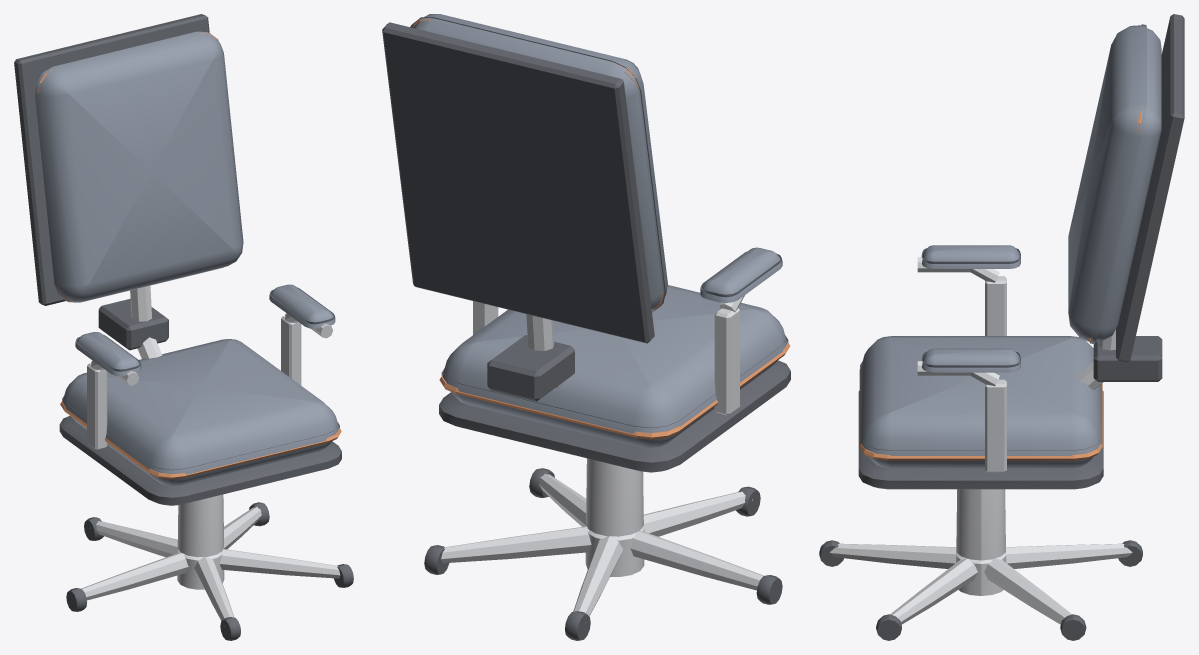
File: task-chair-upholstered.glb
3 renders of one model, left to right at view 1: azimuth 30°, elevation 25°; view 2: azimuth 150°, elevation 25°; view 3: azimuth 270°, elevation 25°, orthographic. The views are drawn at different scales.
Visible parts, largest first — view 1: task-chair-upholstered; view 2: task-chair-upholstered; view 3: task-chair-upholstered.
Part boxes in pixels (box(x1,y1,x2,y2)): task-chair-upholstered: box(14, 14, 353, 640); task-chair-upholstered: box(382, 14, 790, 640); task-chair-upholstered: box(819, 14, 1184, 640).
Bounding box in the file's own units: 0.6203 × 1.18 × 0.7464.
